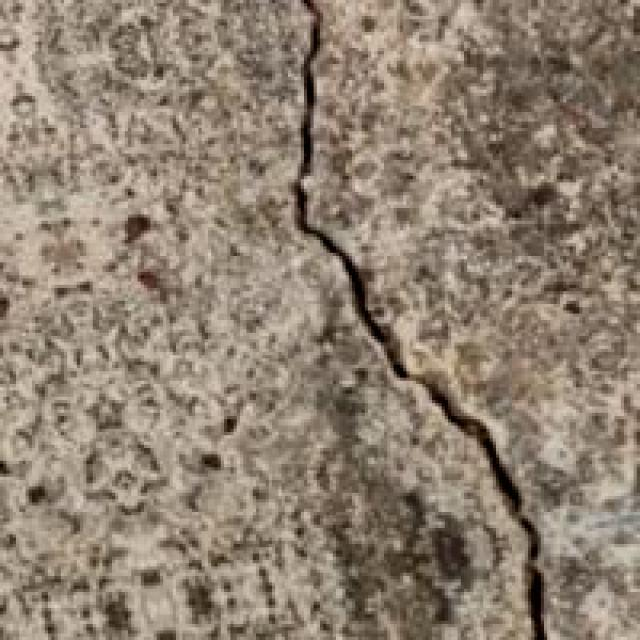crack: (274, 0, 566, 640)
